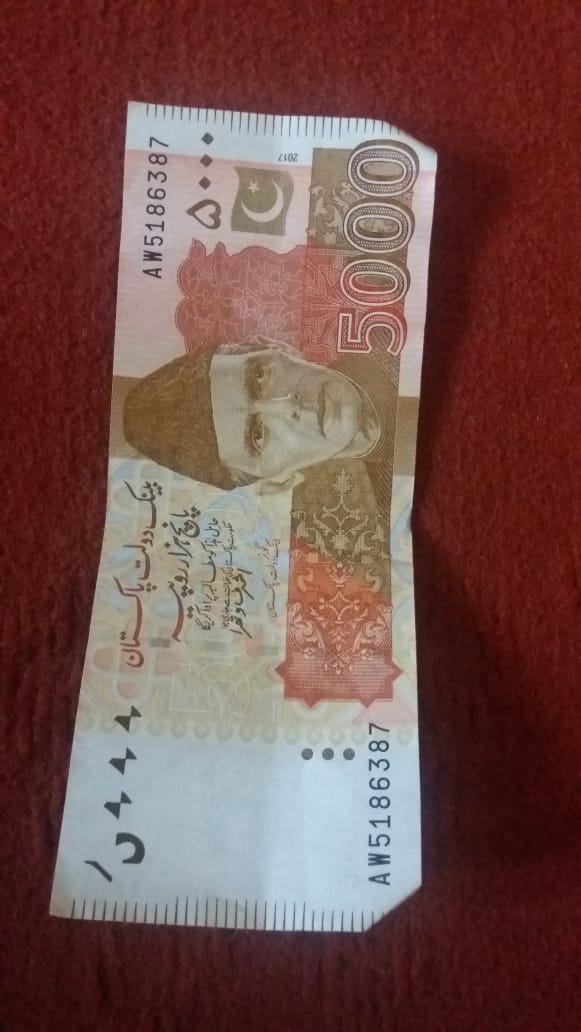5000 rupee: (45, 105, 440, 935)
